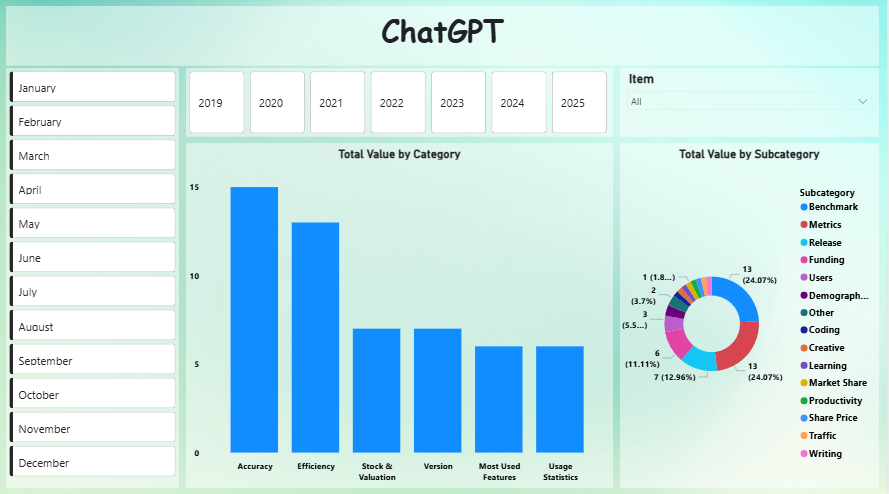

The dashboard page shown, as its layout file describes it:
{"tool":"powerbi","page":{"name":"Page 1","canvas":[1280,720],"ordinal":0},"visuals":[{"type":"textbox","box":[10.1,13,1257.1,86.4],"z":0},{"type":"advancedSlicerVisual","fields":{"Values":["chatgpt_cleaned.Date.Variation.Date Hierarchy.Year"]},"box":[269.3,102.2,614.9,99.4],"z":1000},{"type":"advancedSlicerVisual","fields":{"Values":["chatgpt_cleaned.Date.Variation.Date Hierarchy.Month"]},"box":[10.1,102.2,249.1,604.8],"z":2000},{"type":"clusteredColumnChart","title":"Total Value by Category","fields":{"Category":["chatgpt_cleaned.Category"],"Y":["CountNonNull(chatgpt_cleaned.Value)"]},"box":[269.3,210.2,614.9,496.8],"z":3000},{"type":"donutChart","title":"Total Value by Subcategory","fields":{"Category":["chatgpt_cleaned.Subcategory"],"Y":["CountNonNull(chatgpt_cleaned.Value)"]},"box":[894.2,210.2,373,496.8],"z":4000},{"type":"slicer","fields":{"Values":["chatgpt_cleaned.Item"]},"box":[894.2,102.2,373,99.4],"z":5000}]}

Visuals, with their boxes in screenshot pixels (x1, y1, x2, y2), scaled from the page's 1280x720 canvas onto the 889x494 screenshot:
textbox: crop(7, 9, 880, 68)
advancedSlicerVisual - chatgpt_cleaned.Date.Variation.Date Hierarchy.Year: crop(187, 70, 614, 138)
advancedSlicerVisual - chatgpt_cleaned.Date.Variation.Date Hierarchy.Month: crop(7, 70, 180, 485)
"Total Value by Category" clusteredColumnChart: crop(187, 144, 614, 485)
"Total Value by Subcategory" donutChart: crop(621, 144, 880, 485)
slicer - chatgpt_cleaned.Item: crop(621, 70, 880, 138)
